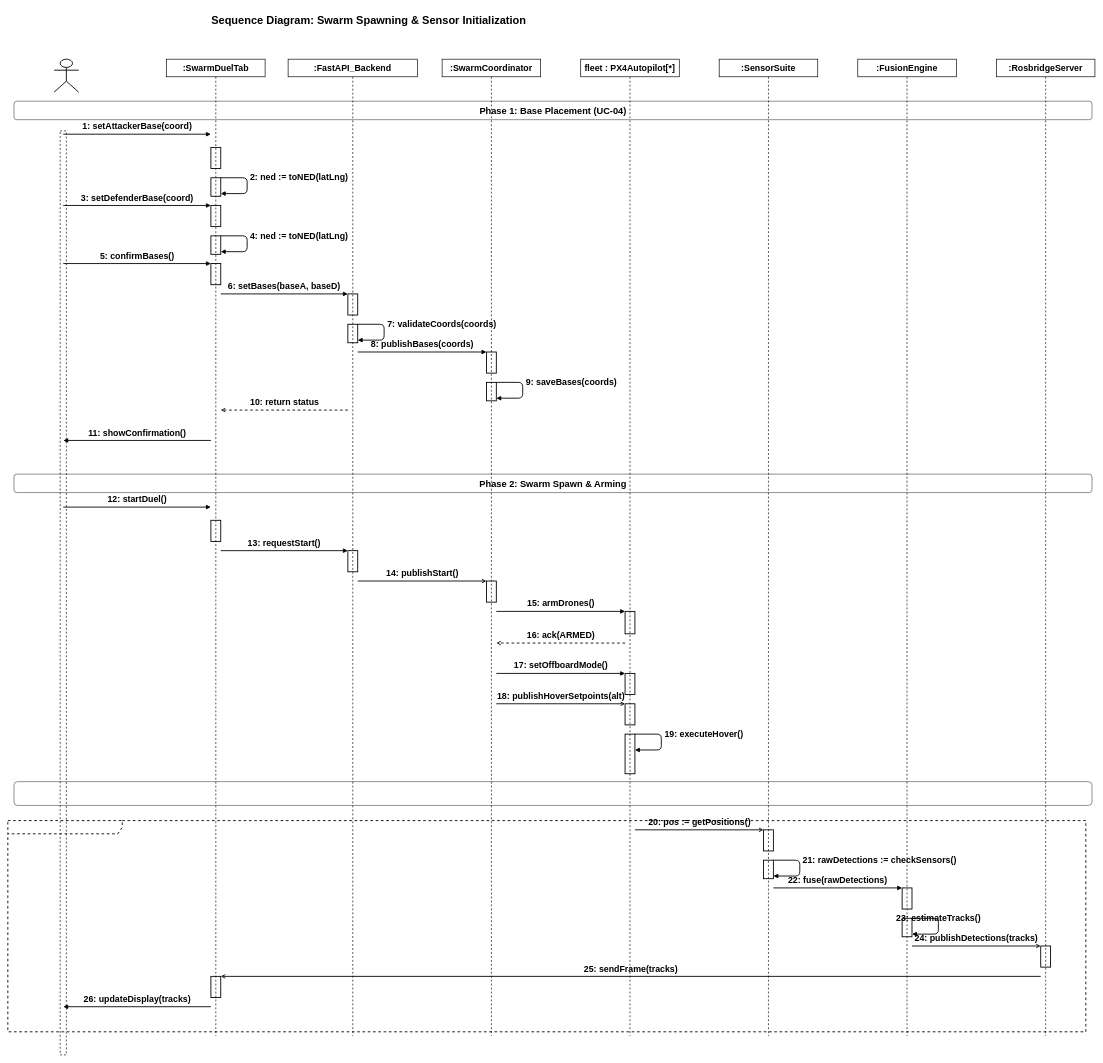
This 1103x1063 diagram has some shape labels left out. The shapes that lost their labels are listed below. From the top down, each one's centre as x and y in pixels, then its label:
(x=66, y=75): :GCS_Operator
(x=553, y=793): Phase 3: Sensor Processing Pipeline (10Hz)
(x=546, y=926): loop Every 100ms (10Hz)
